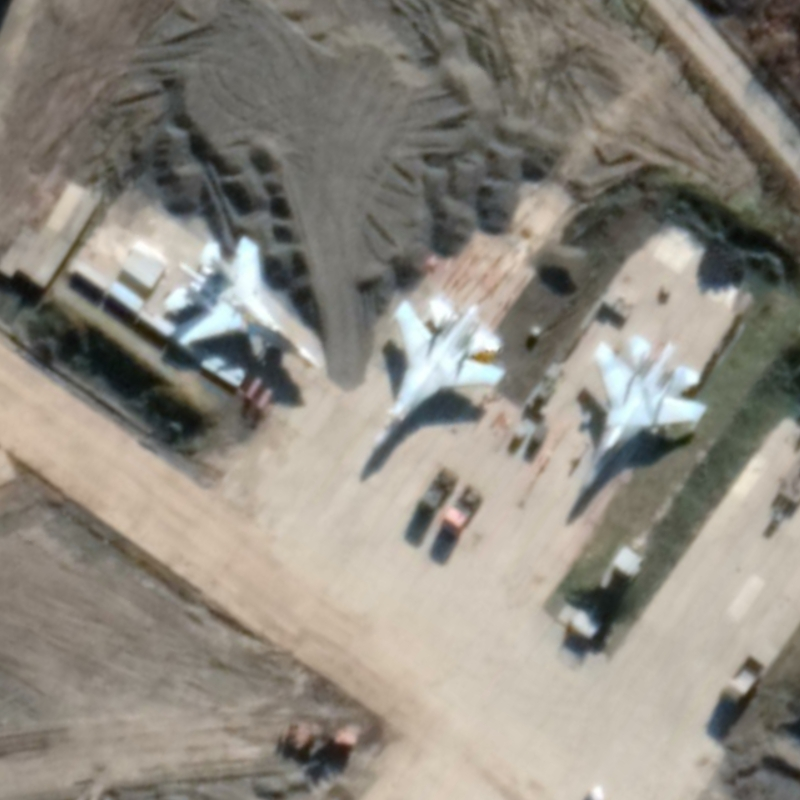A1: (559, 332, 712, 527), (353, 295, 510, 481), (160, 232, 324, 376)
